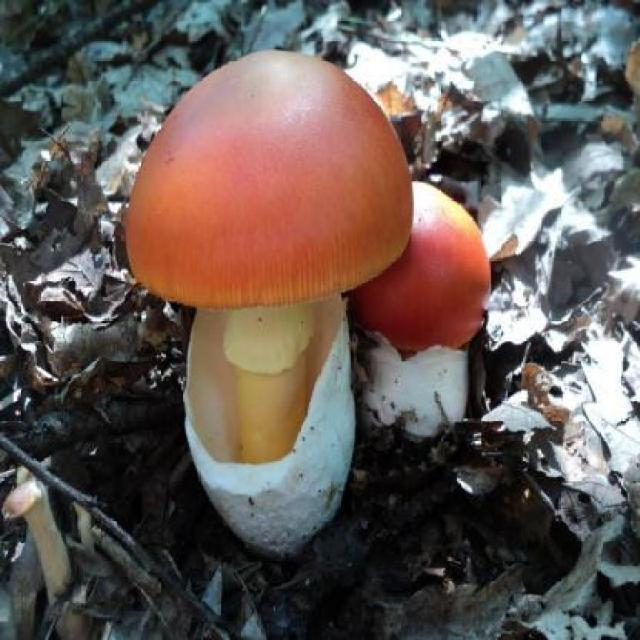Mushroom: (127, 45, 416, 464), (352, 182, 494, 444)
